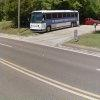Bus: (27, 4, 82, 33)
